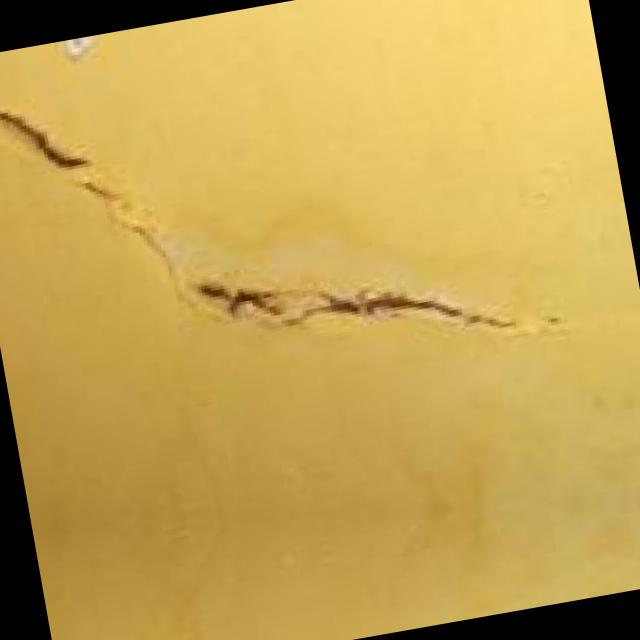crack: (24, 52, 522, 387)
